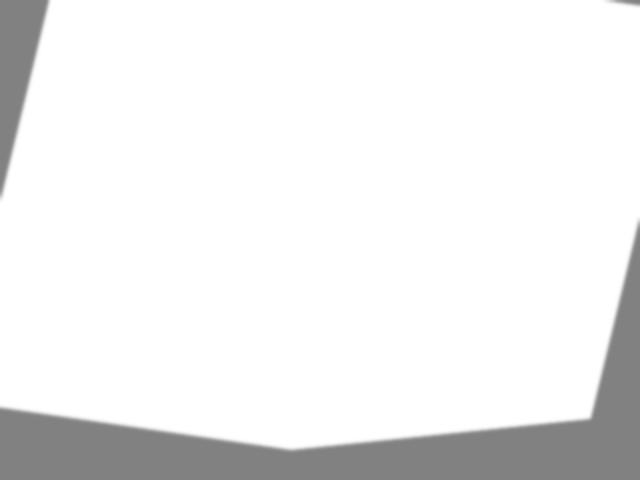iha: (330, 140, 454, 245)
